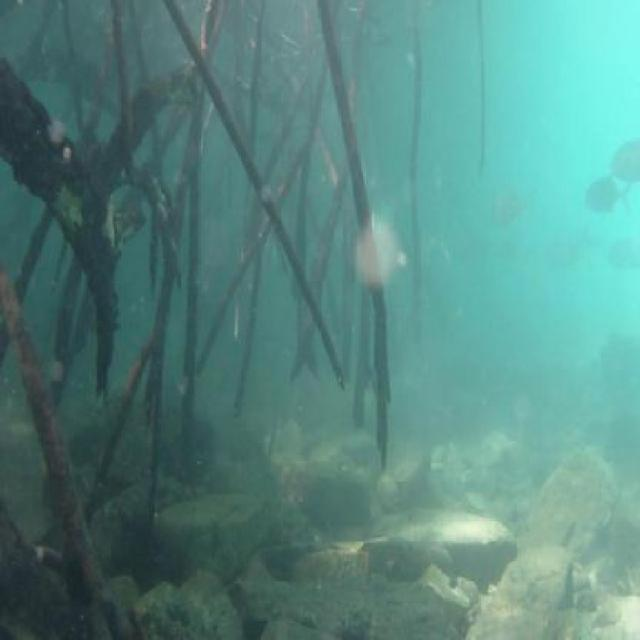Caranx_sexfasciatus_juvenile: (484, 178, 547, 233), (534, 230, 598, 282), (415, 222, 468, 276), (590, 167, 638, 222), (601, 138, 640, 183)
